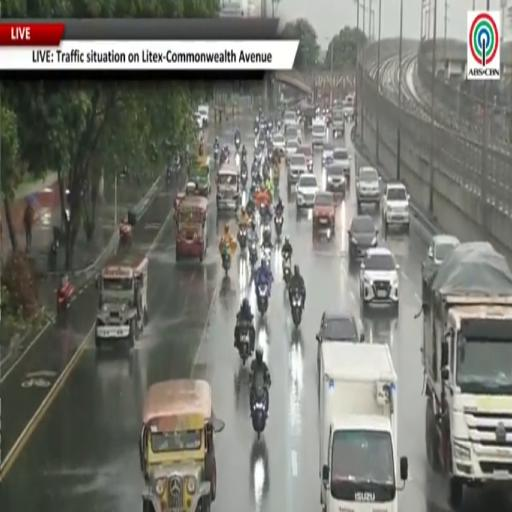car: (316, 312, 365, 367), (422, 234, 460, 302), (360, 247, 399, 313), (348, 215, 378, 263), (382, 183, 410, 233), (356, 167, 381, 213), (312, 191, 335, 239), (427, 234, 460, 266), (296, 174, 319, 212), (325, 163, 346, 197), (333, 148, 351, 182), (288, 154, 307, 186), (297, 146, 313, 172), (312, 120, 326, 149), (333, 108, 345, 138), (285, 124, 301, 143), (283, 110, 297, 131), (322, 142, 334, 165), (286, 139, 299, 157), (198, 105, 209, 126), (273, 134, 285, 151), (323, 156, 333, 174), (194, 112, 203, 130)
jeepney: (140, 380, 224, 511), (95, 252, 148, 347), (176, 196, 208, 262), (216, 165, 241, 211), (189, 157, 211, 197)
motorcycle: (251, 383, 268, 440), (57, 281, 73, 322), (239, 327, 253, 364), (291, 293, 302, 327), (48, 240, 59, 271), (257, 283, 268, 314), (119, 223, 132, 249), (221, 246, 231, 276), (261, 217, 271, 242), (282, 259, 291, 286), (249, 240, 257, 268), (238, 228, 247, 250), (274, 216, 283, 237), (262, 246, 271, 266), (241, 166, 247, 187), (220, 152, 228, 165), (235, 137, 241, 152), (235, 152, 240, 168), (307, 160, 313, 173), (214, 147, 218, 166), (254, 124, 258, 136), (255, 137, 258, 150)
truck: (422, 243, 511, 509), (319, 343, 408, 511)
